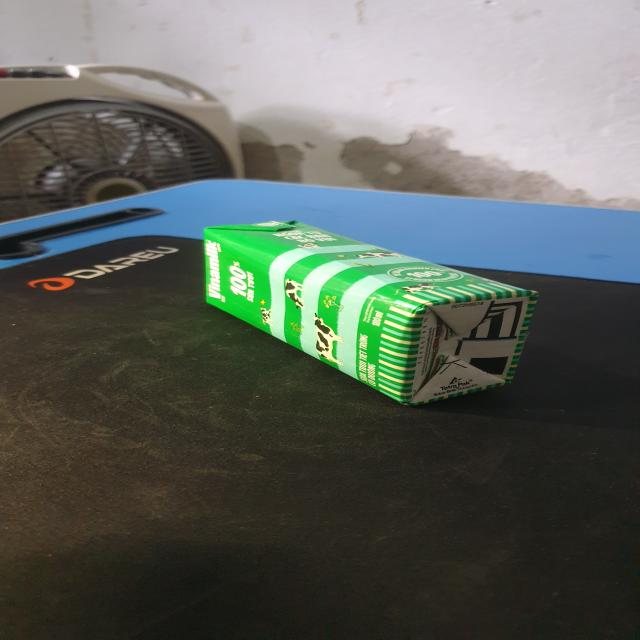Vina: (203, 218, 543, 409)
